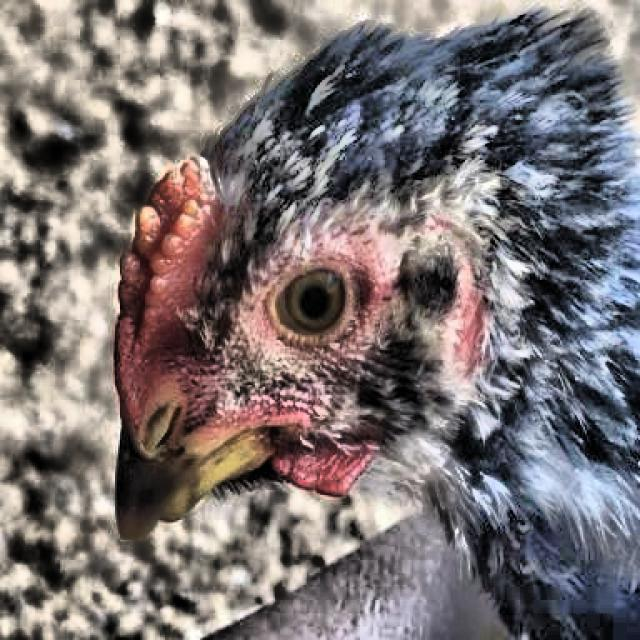Healthy: (210, 242, 395, 362)
